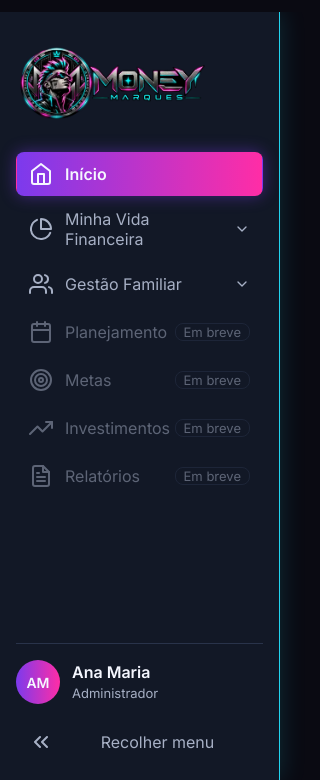
Scenario: MenuLateral › submenu usa aria-expanded e abre sozinho quando a rota esta nele
Click the button "Gestão Familiar". click: (140, 284)
box: [16,262,263,306]
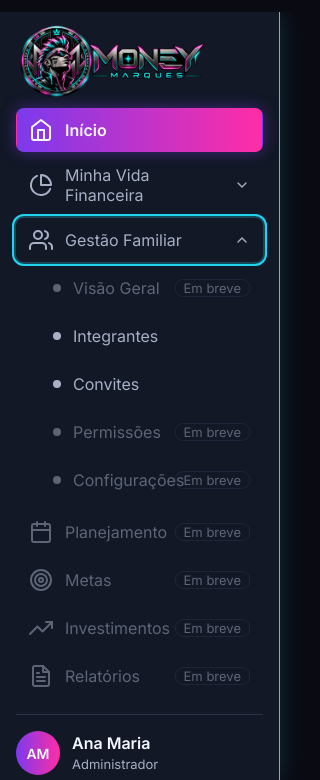
Expected: the button "Gestão Familiar" is expanded, [16,218,263,262]
Expected: the link "Integrantes" is shown, [53,326,158,346]
